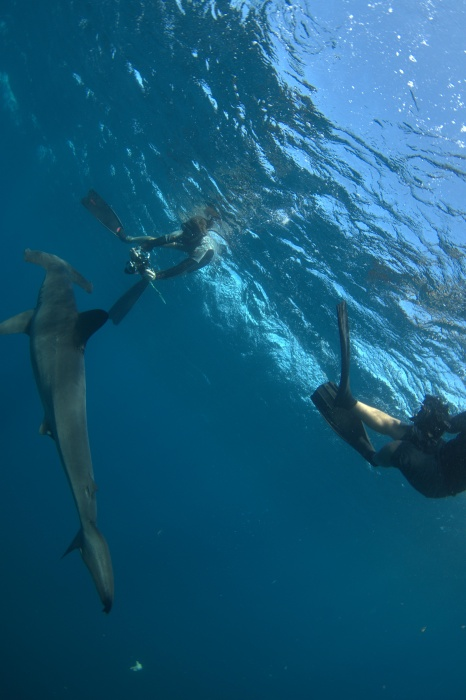Hammer: (1, 247, 134, 685)
